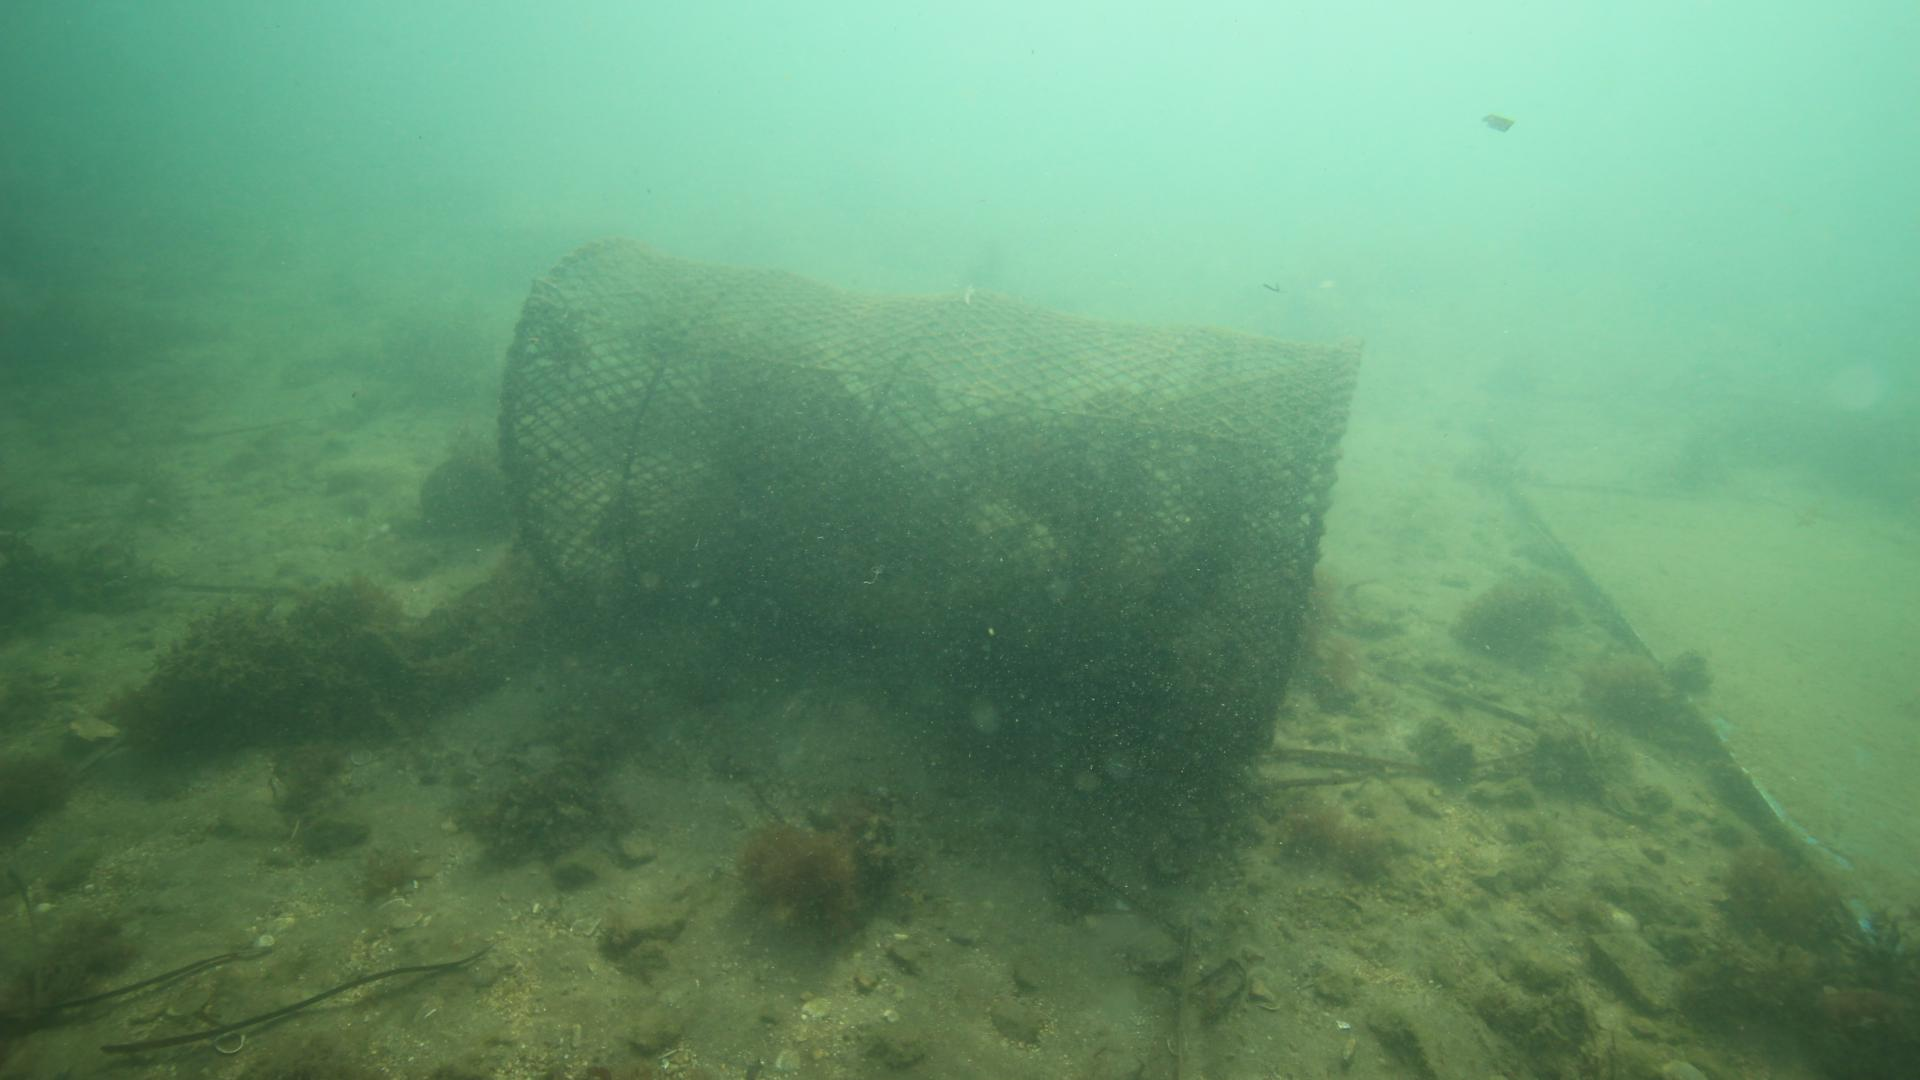spring fish trap: (493, 229, 1371, 746)
